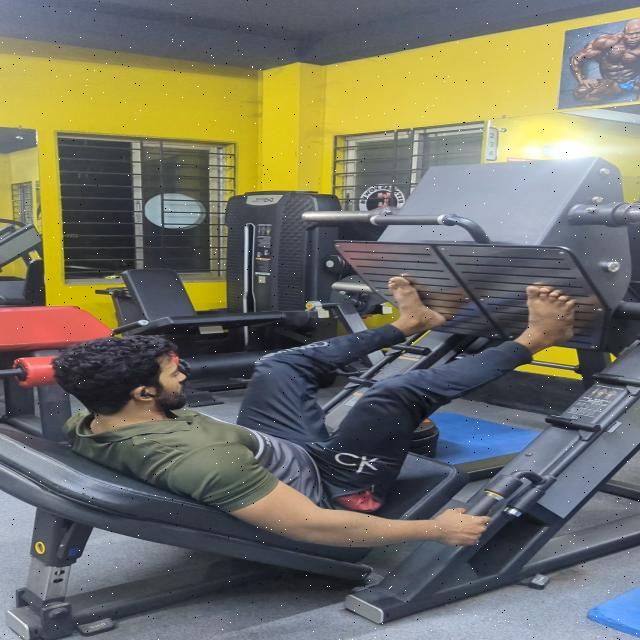Normal_LegPress: (0, 217, 638, 640)
